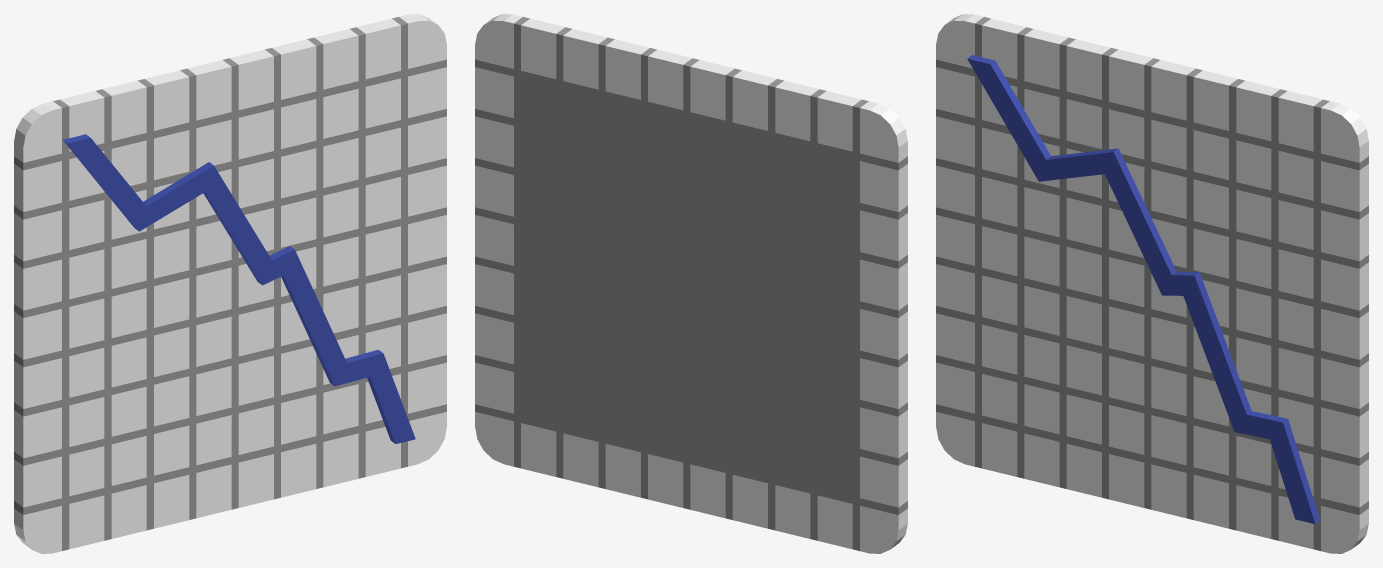
Rendered from chart_decreasing.glb.
3 views of the same model, side by side, from view 1: azimuth 30°, elevation 25°; view 2: azimuth 150°, elevation 25°; view 3: azimuth 330°, elevation 25° (orthographic).
Parts seen in each view (by area): view 1: Plane.340; view 2: Plane.340; view 3: Plane.340.
Part boxes in pixels (x1,y1,x2,y2): Plane.340: (14, 14, 446, 553); Plane.340: (475, 14, 907, 553); Plane.340: (936, 14, 1368, 553).
Bounding box in the file's own units: 2.2 × 2.2 × 0.1426.
Materials: 1 (1 with a texture image).
